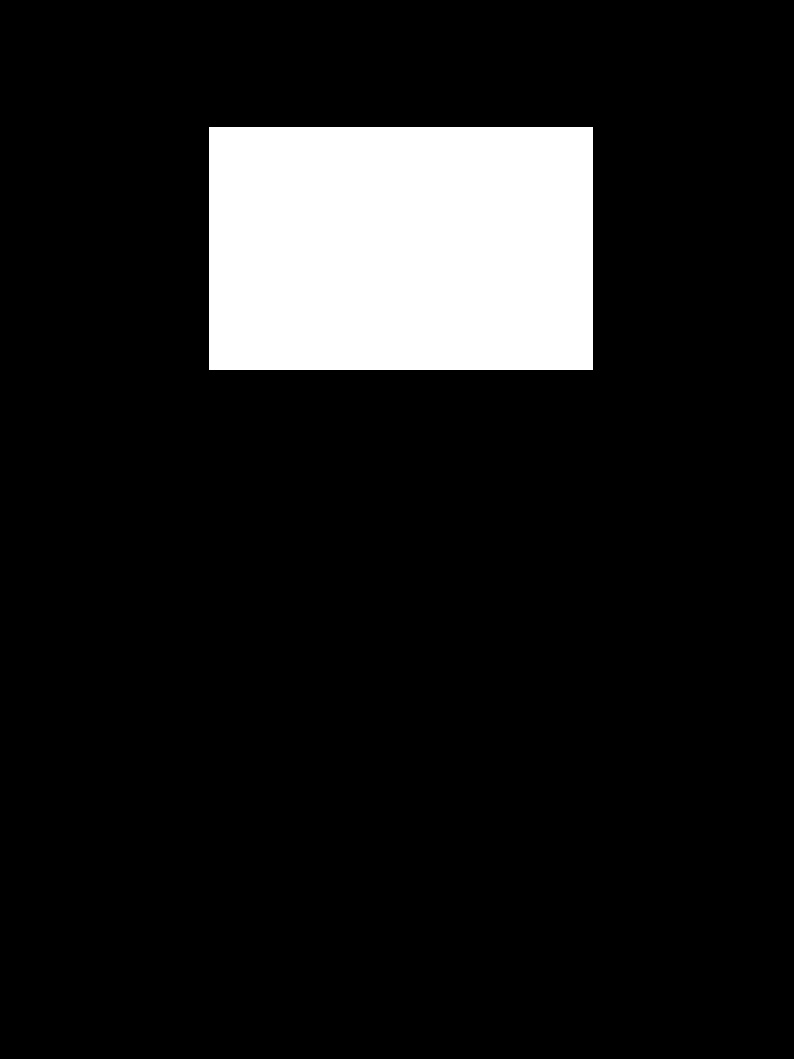table: (209, 127, 592, 369)
